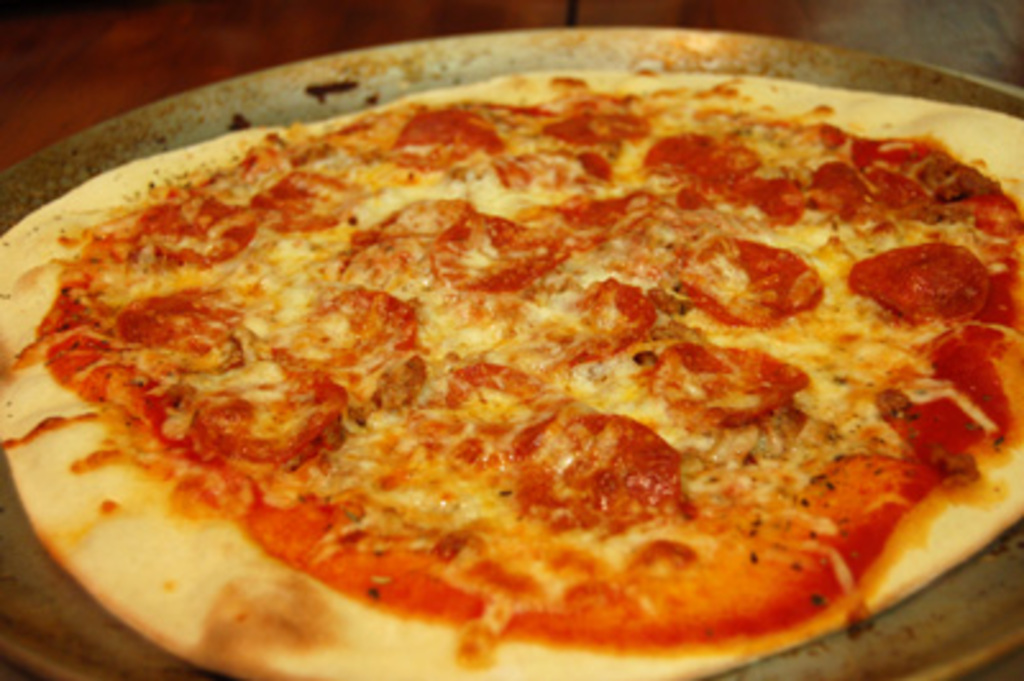Pizza: (0, 64, 1021, 678)
